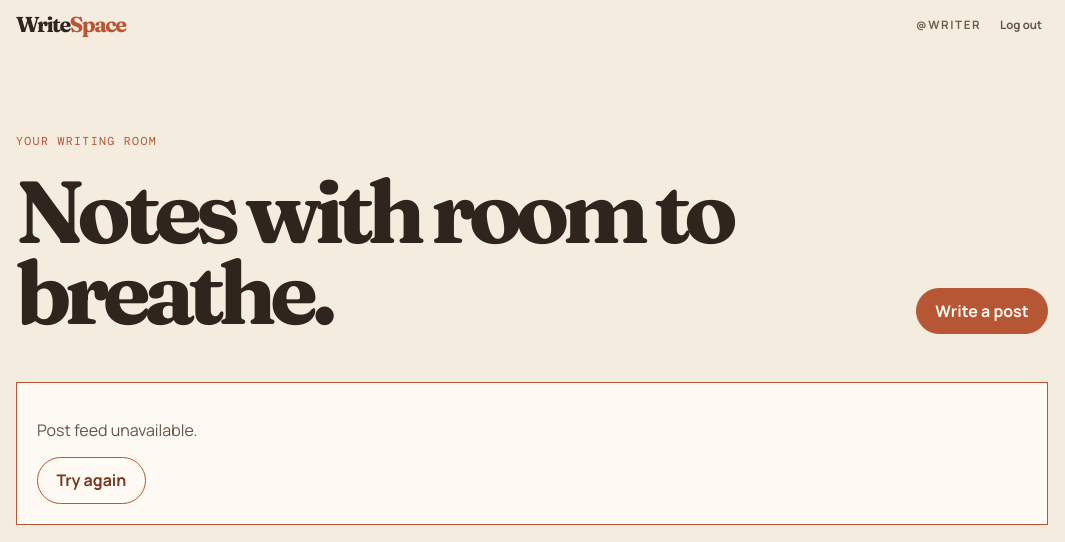
Test case: post components › shows a feed error and retries successfully
The width and height of the screenshot is (1065, 542).
Expected: the message shows "Post feed unavailable.", [37,419,198,441]
Click the button "Try again" at (91, 480), box [37,457,146,504]
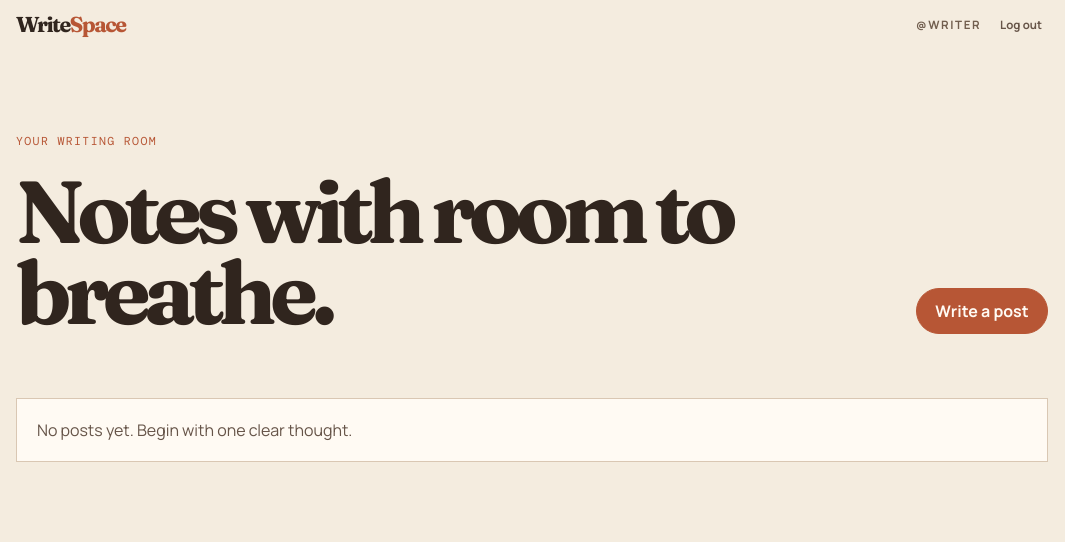
Result: the text "No posts yet. Begin with one clear thought." is shown at [16,398,1048,462]
